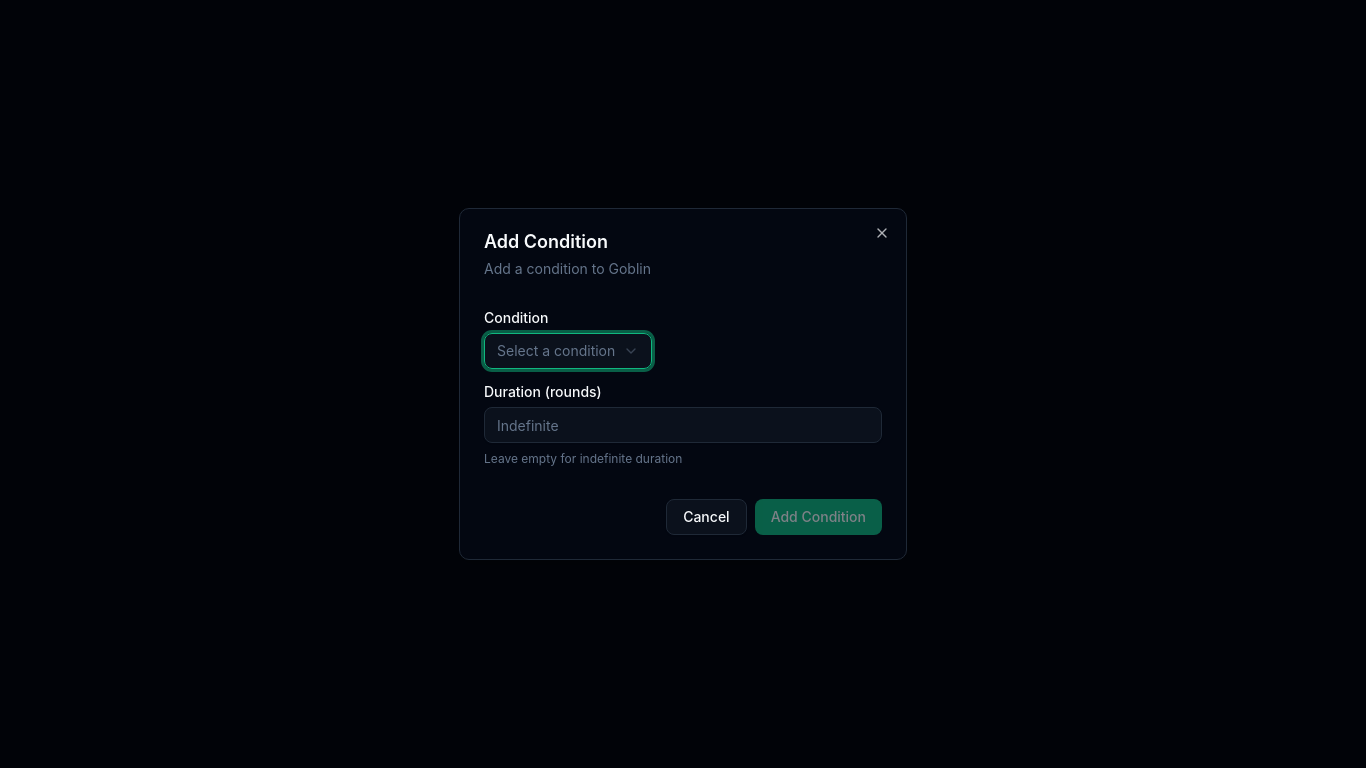
it: AddConditionDialog › Condition Filtering › should show all conditions when none are applied
The width and height of the screenshot is (1366, 768).
// Open select
Click the dropdown: [568, 351] box top-left (484, 333), bottom-right (652, 369)
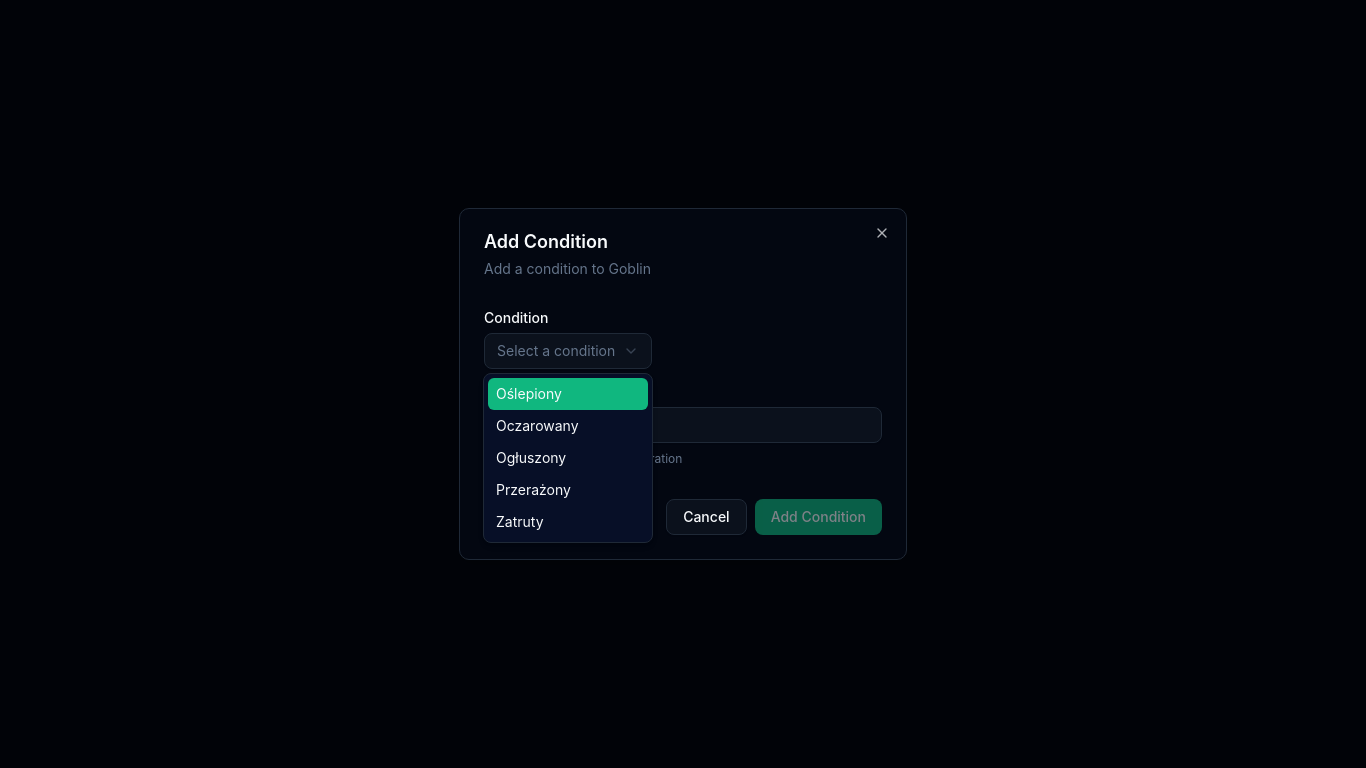
Now the option "Oślepiony" is shown, box top-left (488, 378), bottom-right (648, 410)
Now the option "Oczarowany" is shown, box top-left (496, 417), bottom-right (578, 434)
Now the option "Ogłuszony" is shown, box top-left (496, 449), bottom-right (566, 466)
